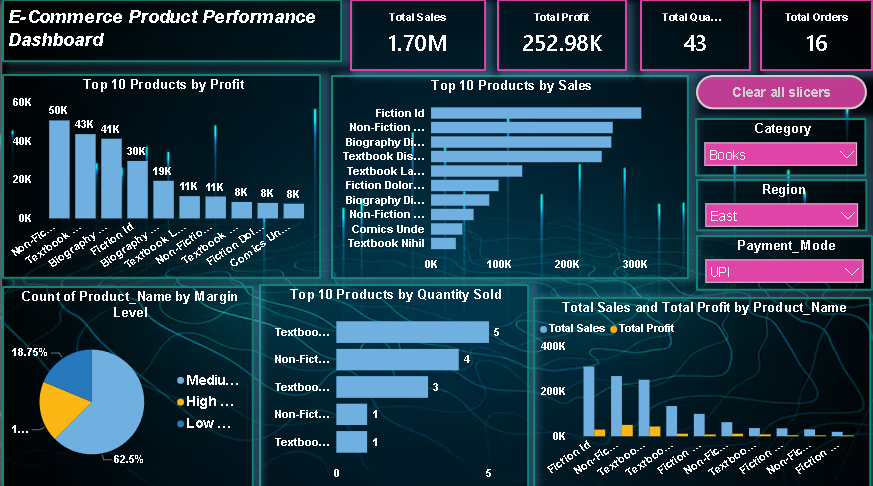

This screenshot's page, from the dashboard's own definition file:
{"tool":"powerbi","page":{"name":"Page 1","canvas":[1280,720],"ordinal":0},"visuals":[{"type":"clusteredBarChart","title":"Top 10 Products by Sales","fields":{"Category":["ecommerce_sales ecommerce_sales.Product_Name"],"Y":["ecommerce_sales ecommerce_sales.Total Sales"]},"box":[483.4,111.7,526,299.8],"z":4},{"type":"columnChart","title":"Top 10 Products by Profit","fields":{"Category":["ecommerce_sales ecommerce_sales.Product_Name"],"Y":["ecommerce_sales ecommerce_sales.Total Profit"]},"box":[0,110.2,468.7,301.2],"z":5},{"type":"clusteredBarChart","title":"Top 10 Products by Quantity Sold","fields":{"Category":["ecommerce_sales ecommerce_sales.Product_Name"],"Y":["ecommerce_sales ecommerce_sales.Total Quantity"]},"box":[377.6,418.8,396.7,299.8],"z":6},{"type":"clusteredColumnChart","fields":{"Category":["ecommerce_sales ecommerce_sales.Product_Name"],"Y":["ecommerce_sales ecommerce_sales.Total Sales","ecommerce_sales ecommerce_sales.Total Profit"]},"box":[780.2,437.9,496.7,280.7],"z":7},{"type":"pieChart","fields":{"Category":["ecommerce_sales ecommerce_sales.Margin Level"],"Y":["CountNonNull(ecommerce_sales ecommerce_sales.Product_Name)"]},"box":[0,421.7,370.3,296.8],"z":8},{"type":"slicer","title":"Category","fields":{"Values":["ecommerce_sales ecommerce_sales.Category"]},"box":[1018.6,175.4,252.4,85.9],"z":9},{"type":"slicer","title":"Region","fields":{"Values":["ecommerce_sales ecommerce_sales.Region"]},"box":[1020.4,265,252.4,77],"z":10},{"type":"textbox","box":[0,0,500.4,92.6],"z":11},{"type":"cardVisual","fields":{"Data":["ecommerce_sales ecommerce_sales.Total Sales"]},"box":[511.3,0,199.8,105.8],"z":12},{"type":"cardVisual","fields":{"Data":["ecommerce_sales ecommerce_sales.Total Profit"]},"box":[727.3,0,191,105.8],"z":13},{"type":"cardVisual","fields":{"Data":["ecommerce_sales ecommerce_sales.Total Quantity"]},"box":[937.5,0,163.1,105.8],"z":14},{"type":"cardVisual","fields":{"Data":["ecommerce_sales ecommerce_sales.Total Orders"]},"box":[1113.8,0,166,105.8],"z":15},{"type":"slicer","title":"Payment_Mode","fields":{"Values":["ecommerce_sales ecommerce_sales.Payment_Mode"]},"box":[1020.4,347.3,259.6,82.3],"z":16},{"type":"actionButton","box":[1019.8,111.5,251.2,50.5],"z":17}]}

Visuals, with their boxes in screenshot pixels (x1, y1, x2, y2), scaled from the page's 1280x720 canvas onto the 873x486 screenshot:
"Top 10 Products by Sales" clusteredBarChart: left=330, top=75, right=688, bottom=278
"Top 10 Products by Profit" columnChart: left=0, top=74, right=320, bottom=278
"Top 10 Products by Quantity Sold" clusteredBarChart: left=258, top=283, right=528, bottom=485
clusteredColumnChart - ecommerce_sales ecommerce_sales.Product_Name x ecommerce_sales ecommerce_sales.Total Sales: left=532, top=296, right=871, bottom=485
pieChart - ecommerce_sales ecommerce_sales.Margin Level x CountNonNull(ecommerce_sales ecommerce_sales.Product_Name): left=0, top=285, right=253, bottom=485
"Category" slicer: left=695, top=118, right=867, bottom=176
"Region" slicer: left=696, top=179, right=868, bottom=231
textbox: left=0, top=0, right=341, bottom=63
cardVisual - ecommerce_sales ecommerce_sales.Total Sales: left=349, top=0, right=485, bottom=71
cardVisual - ecommerce_sales ecommerce_sales.Total Profit: left=496, top=0, right=626, bottom=71
cardVisual - ecommerce_sales ecommerce_sales.Total Quantity: left=639, top=0, right=751, bottom=71
cardVisual - ecommerce_sales ecommerce_sales.Total Orders: left=760, top=0, right=872, bottom=71
"Payment_Mode" slicer: left=696, top=234, right=872, bottom=290
actionButton: left=696, top=75, right=867, bottom=109
